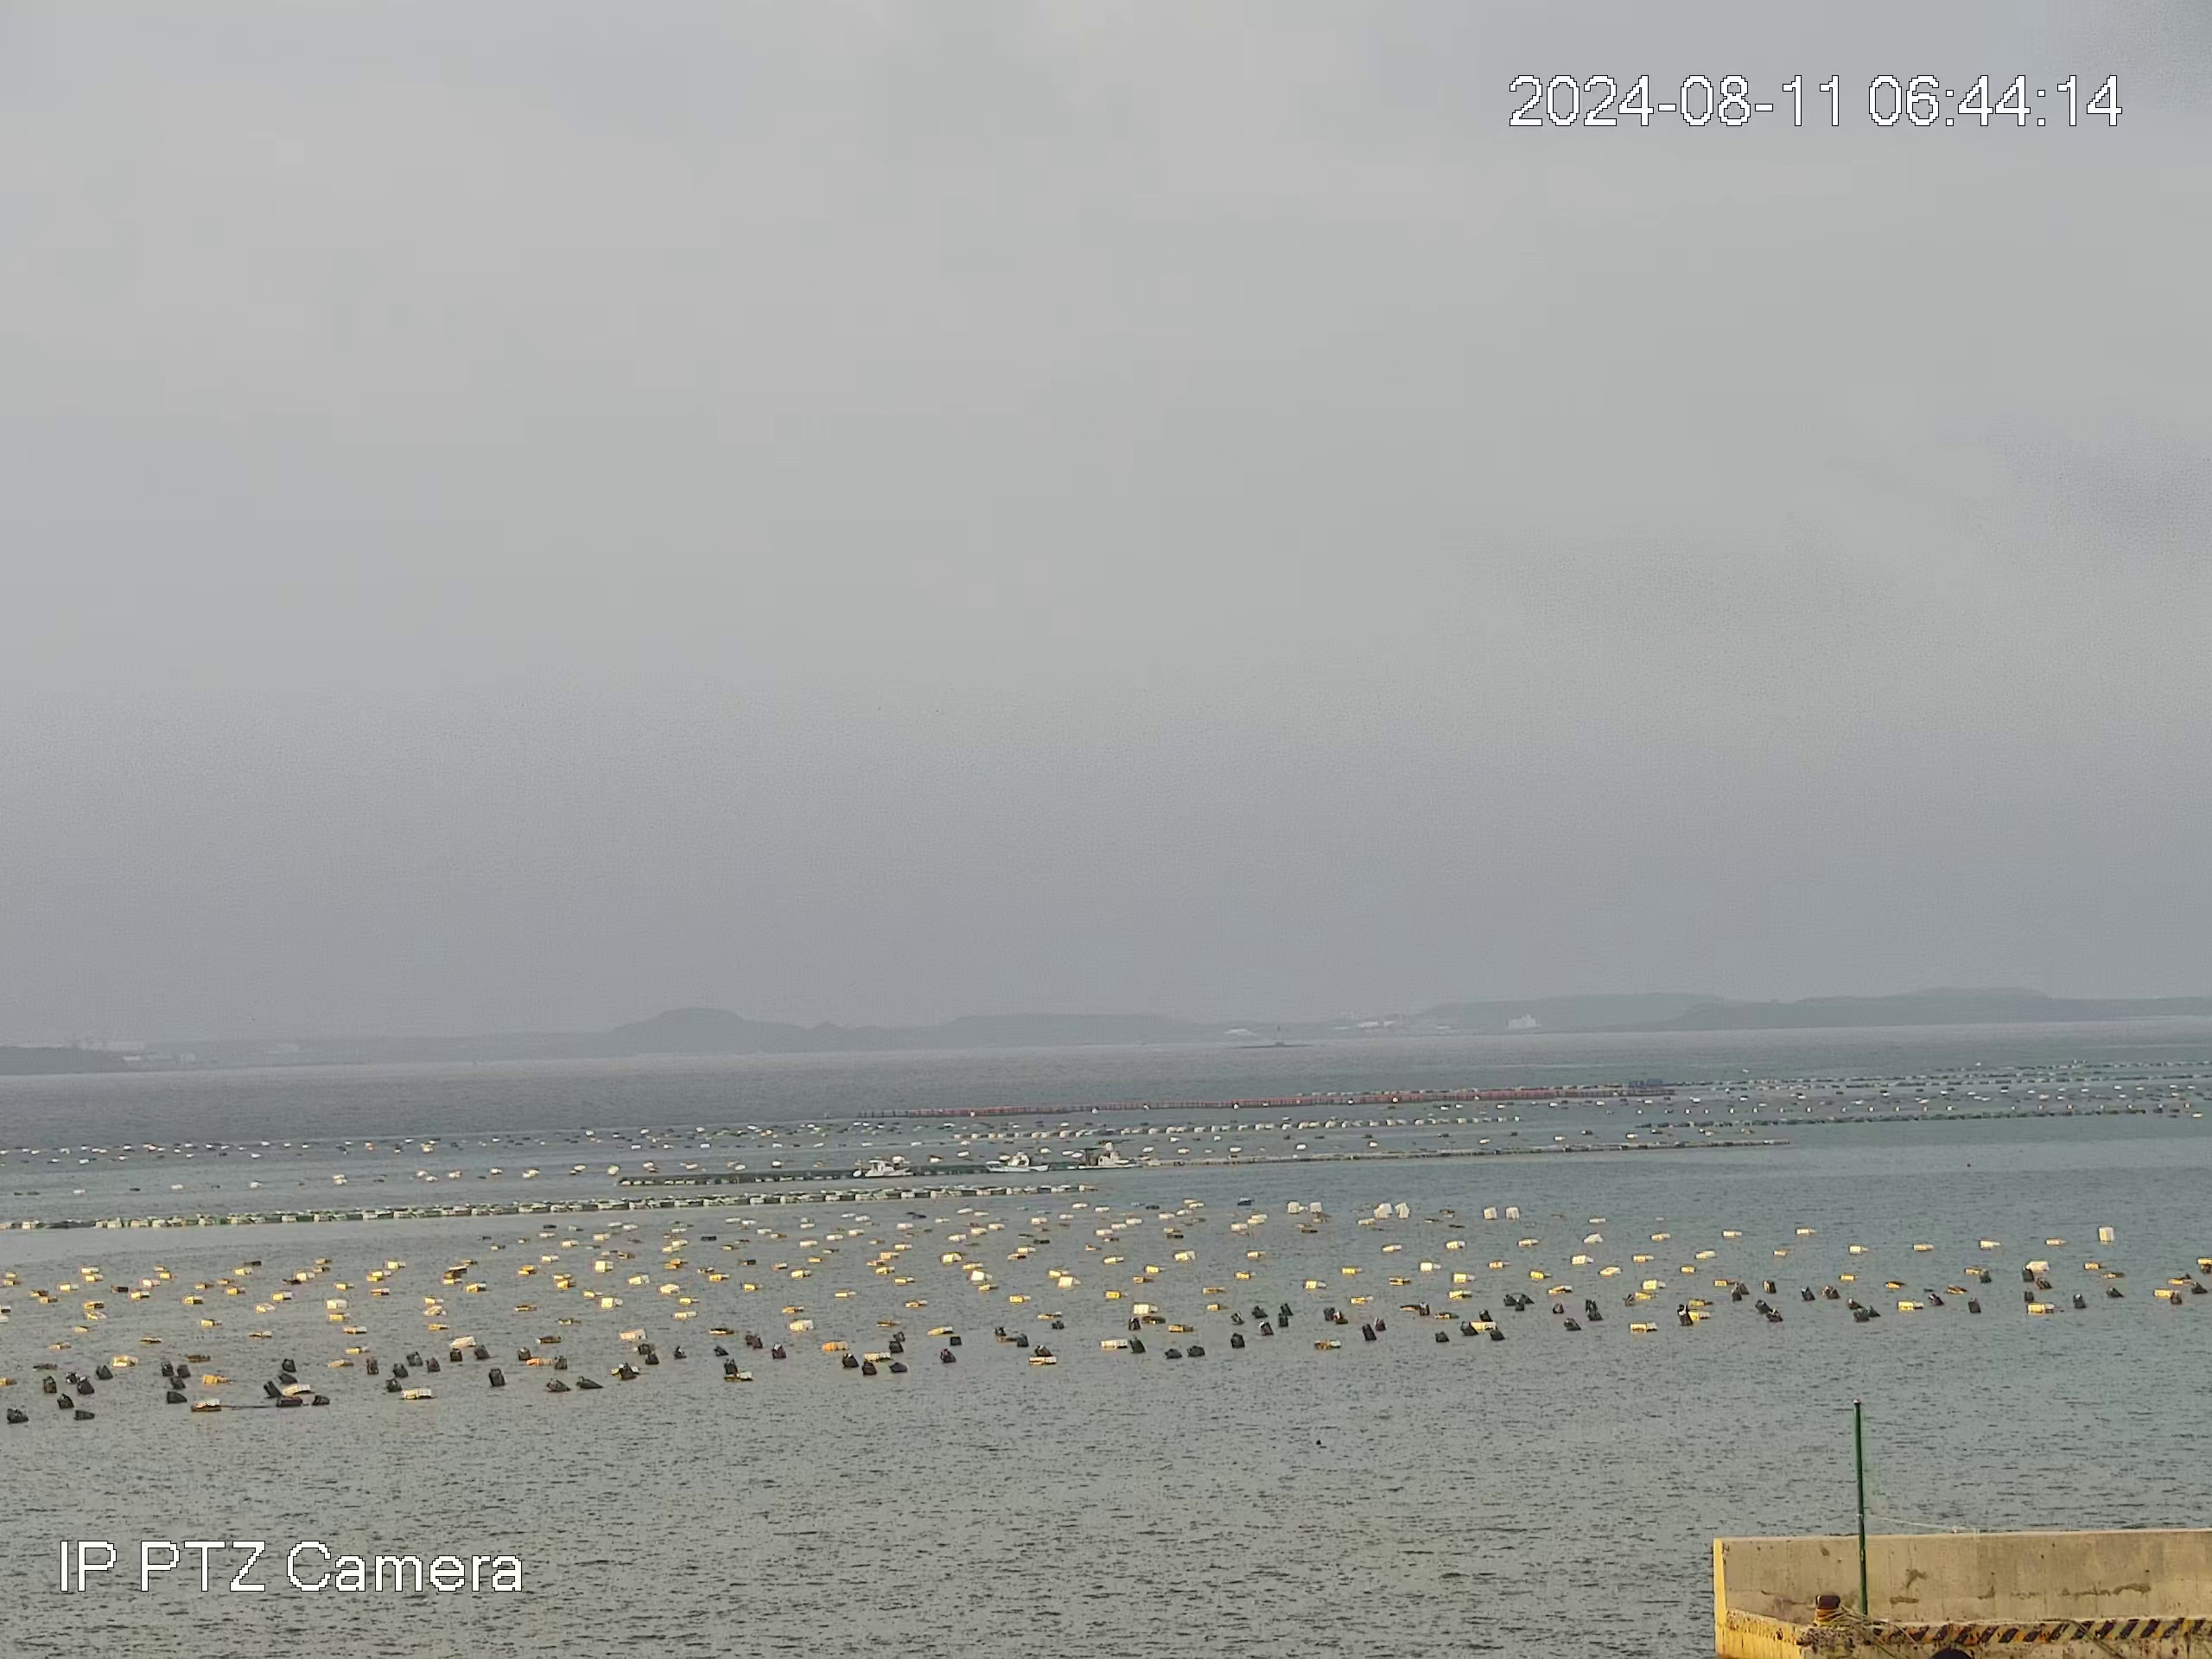boat: (984, 1152, 1050, 1173), (852, 1157, 907, 1178), (1064, 1150, 1120, 1169)
